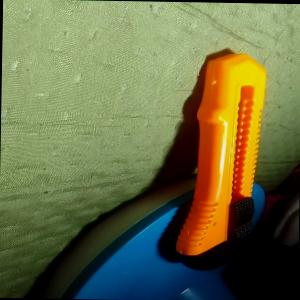estilete: (175, 50, 267, 270)
